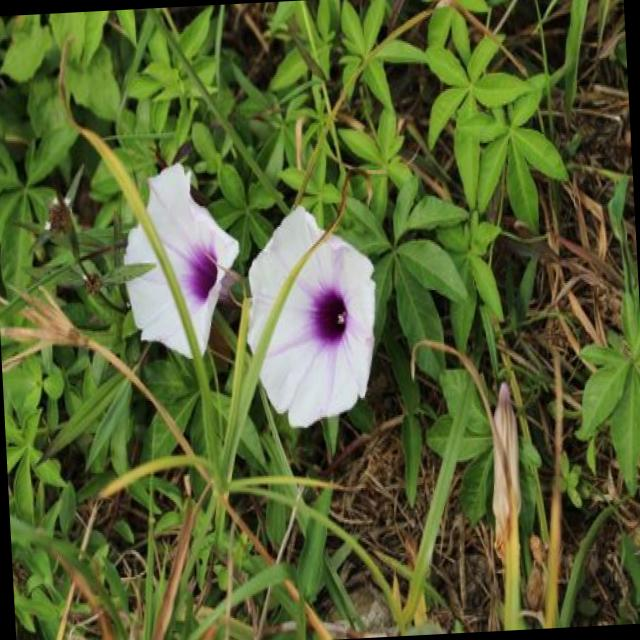ipomoea: (239, 199, 386, 436), (115, 156, 246, 368)
